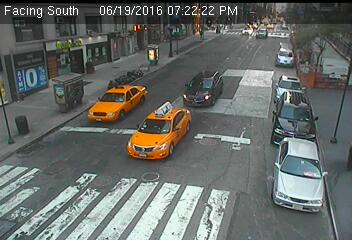neg: (80, 173, 102, 203), (229, 41, 251, 71), (15, 127, 35, 155), (179, 166, 199, 192), (259, 101, 277, 124), (288, 123, 305, 146), (29, 72, 45, 94), (141, 45, 157, 66), (152, 112, 168, 132), (82, 57, 97, 77), (116, 90, 130, 110), (275, 42, 289, 62), (62, 84, 76, 102), (43, 104, 57, 122), (50, 164, 64, 182), (126, 175, 140, 193), (194, 88, 208, 105), (224, 137, 237, 154), (24, 50, 36, 67), (202, 64, 213, 79), (121, 71, 131, 85), (299, 60, 309, 73)
